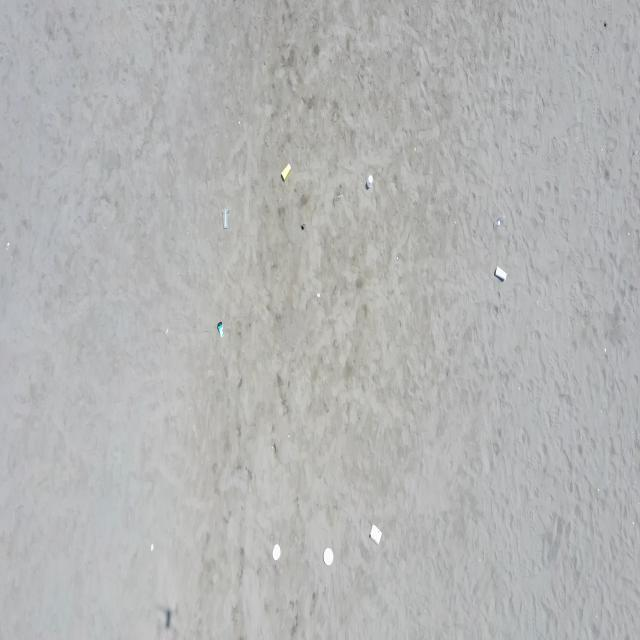take-away-containers: (369, 523, 383, 547), (322, 546, 334, 567), (272, 543, 281, 562)
takeaway-cup: (280, 162, 292, 183), (222, 206, 230, 230), (495, 268, 507, 281), (217, 322, 225, 336), (367, 174, 373, 189)
